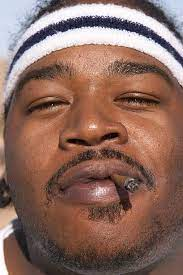n.blunt: (57, 82, 125, 150)
